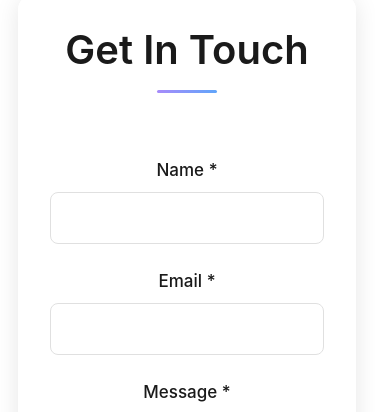
ContactSection › Validation › shows error on blur when name is empty
Click the field labelled "Name *" at (187, 218), box [50, 192, 324, 244]
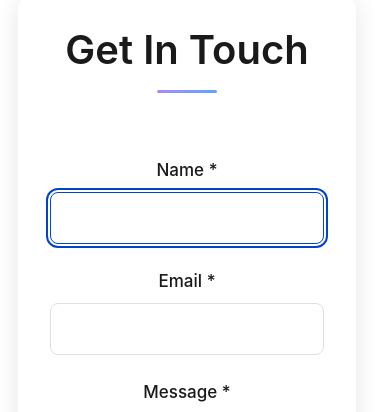
Press Tab
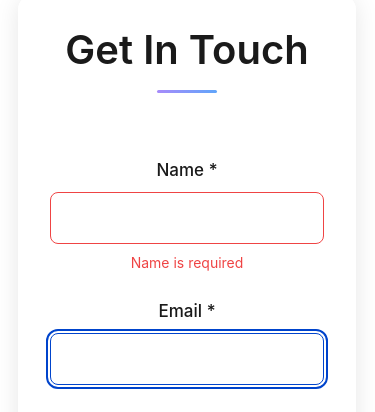
Now the message reads "Name is required", box [131, 254, 243, 271]
